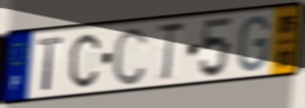5: (198, 15, 236, 79)
C: (111, 24, 149, 88), (68, 32, 102, 90)
G: (236, 14, 271, 74)
T: (155, 20, 186, 83), (36, 35, 65, 94)
